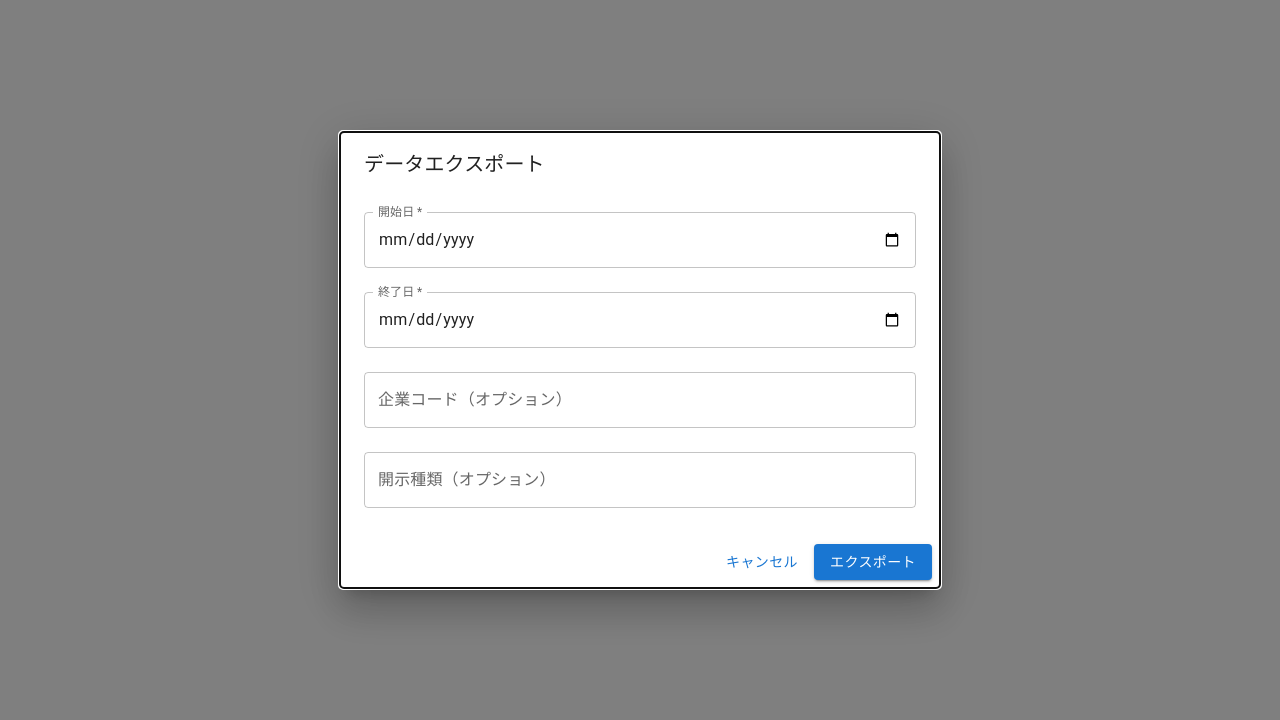
ExportDialog › エクスポート失敗時にエラーメッセージを表示する
This screenshot has width=1280, height=720.
Note: フォーム入力とエクスポート実行
Type "2024-01-01" into the date field labelled "開始日 *" at (640, 240), box [364,212,916,268]
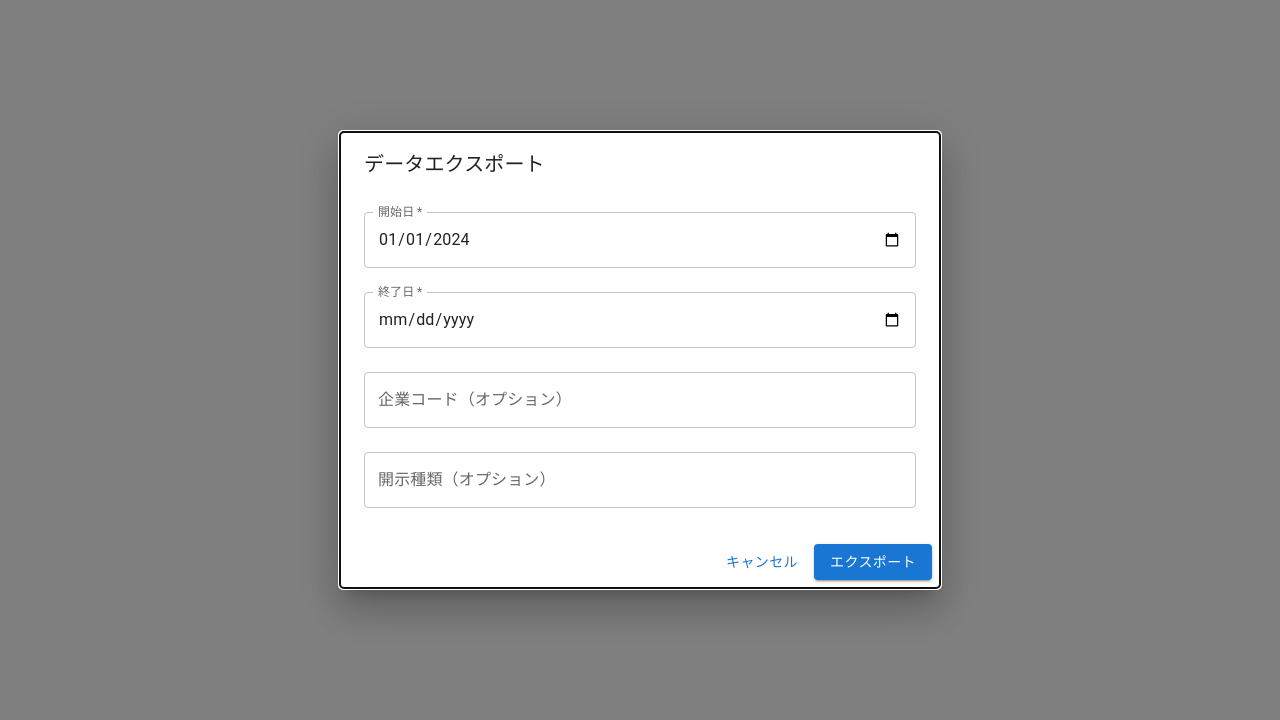
Type "2024-01-31" into the date field labelled "終了日 *" at (640, 320), box [364,292,916,348]
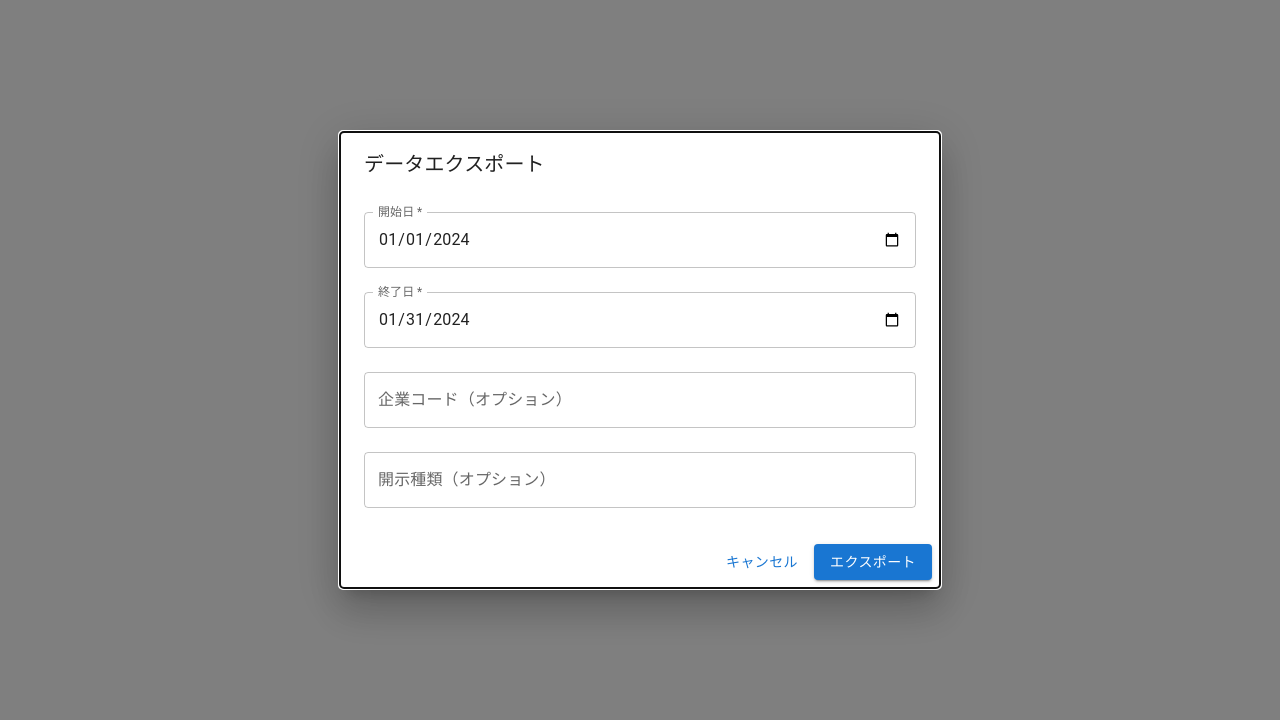
Click the button "エクスポート" at (873, 562), box [814,544,932,580]
Wait 5000 ms
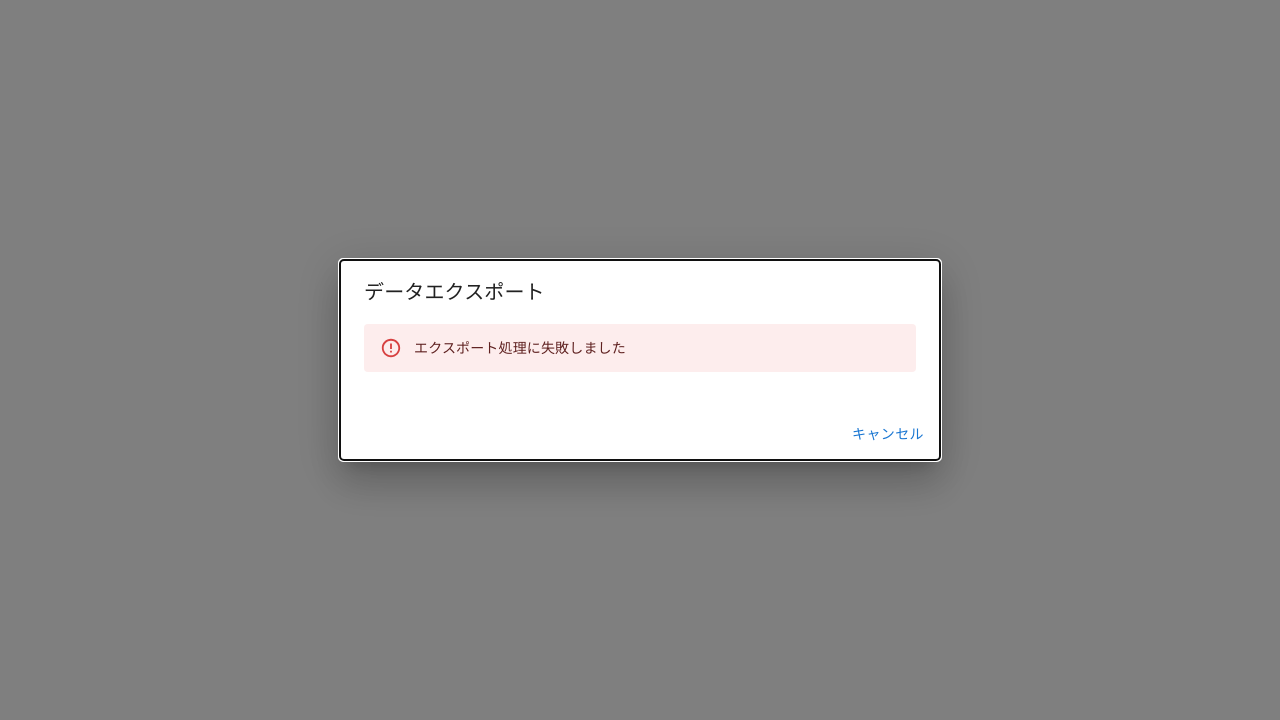
Now the text "エクスポート処理に失敗しました" is shown, box [414,340,626,356]
